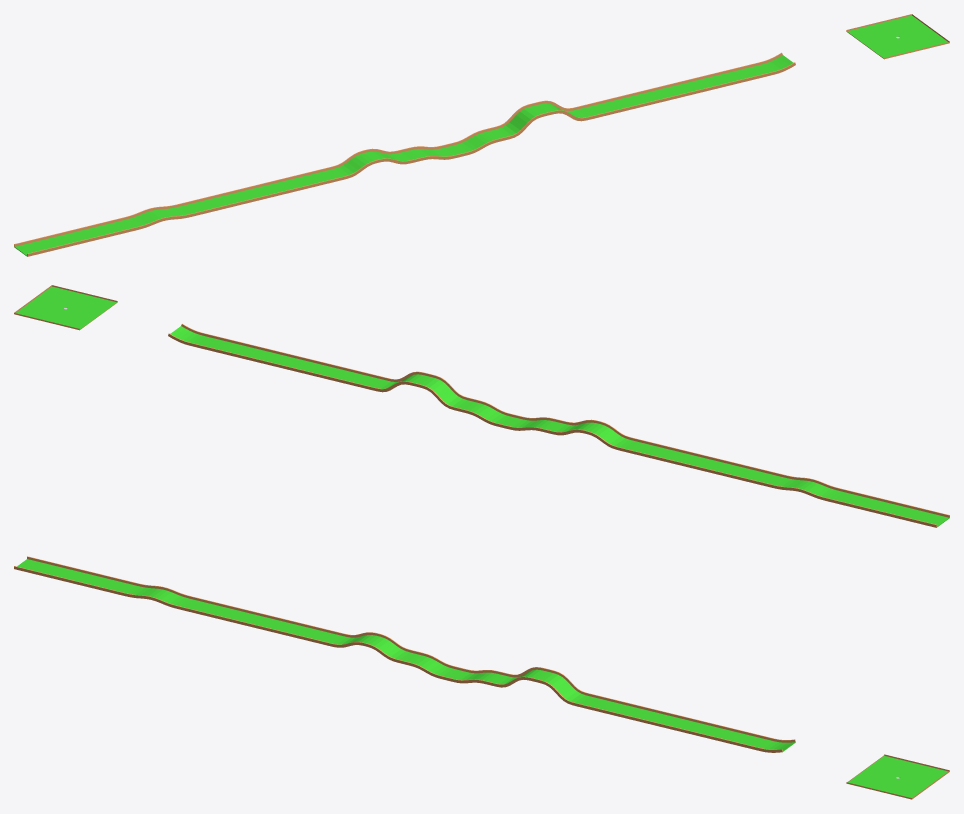
Rendered from m-golf-holes-001.glb.
3 renders of one model, top to bottom at view 1: azimuth 30°, elevation 25°; view 2: azimuth 150°, elevation 25°; view 3: azimuth 330°, elevation 25°, orthographic.
Parts seen in each view (by area): view 1: Track_Visual, Green_Visual; view 2: Track_Visual, Green_Visual; view 3: Track_Visual, Green_Visual.
Part boxes in pixels (x1,y1,x2,y2): Track_Visual: (14, 52, 795, 256); Green_Visual: (846, 14, 949, 59); Track_Visual: (168, 323, 949, 527); Green_Visual: (14, 285, 117, 330); Track_Visual: (14, 556, 795, 752); Green_Visual: (846, 754, 949, 799).
Size of what is drawn, in the model's own units: 83 by 2 by 6.
